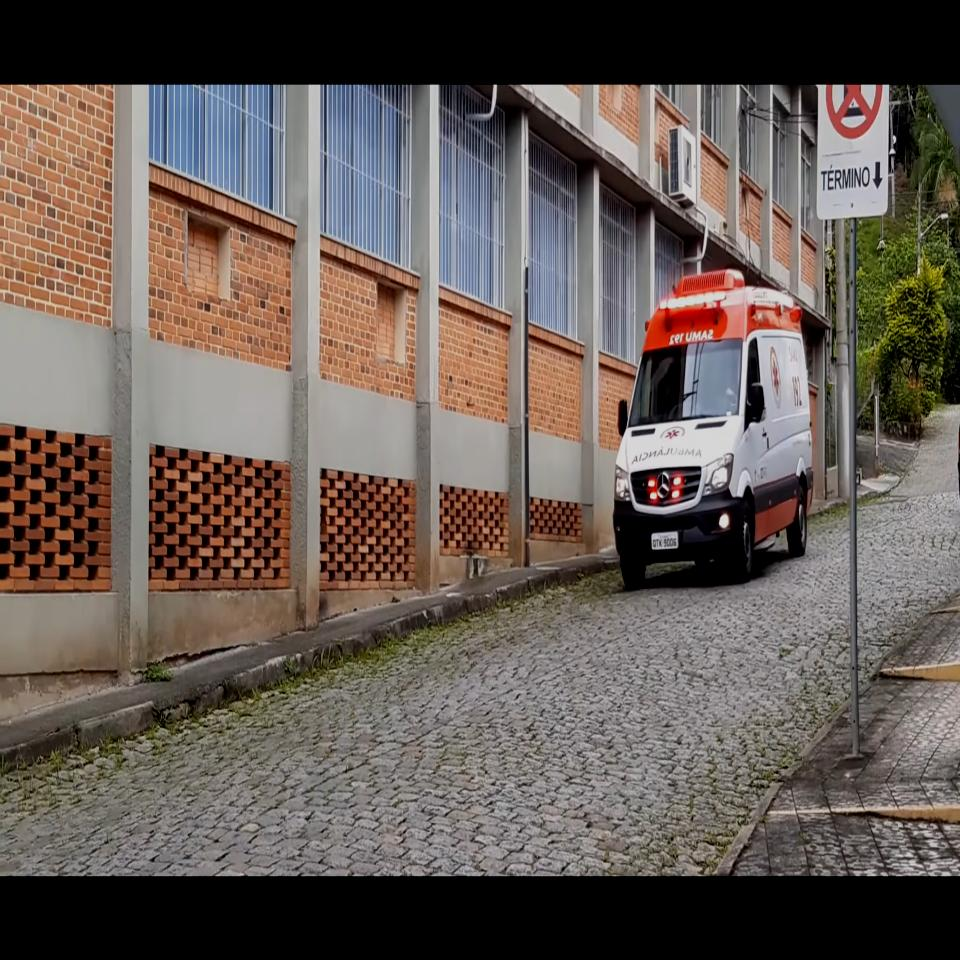ambulancia: (612, 266, 816, 592)
